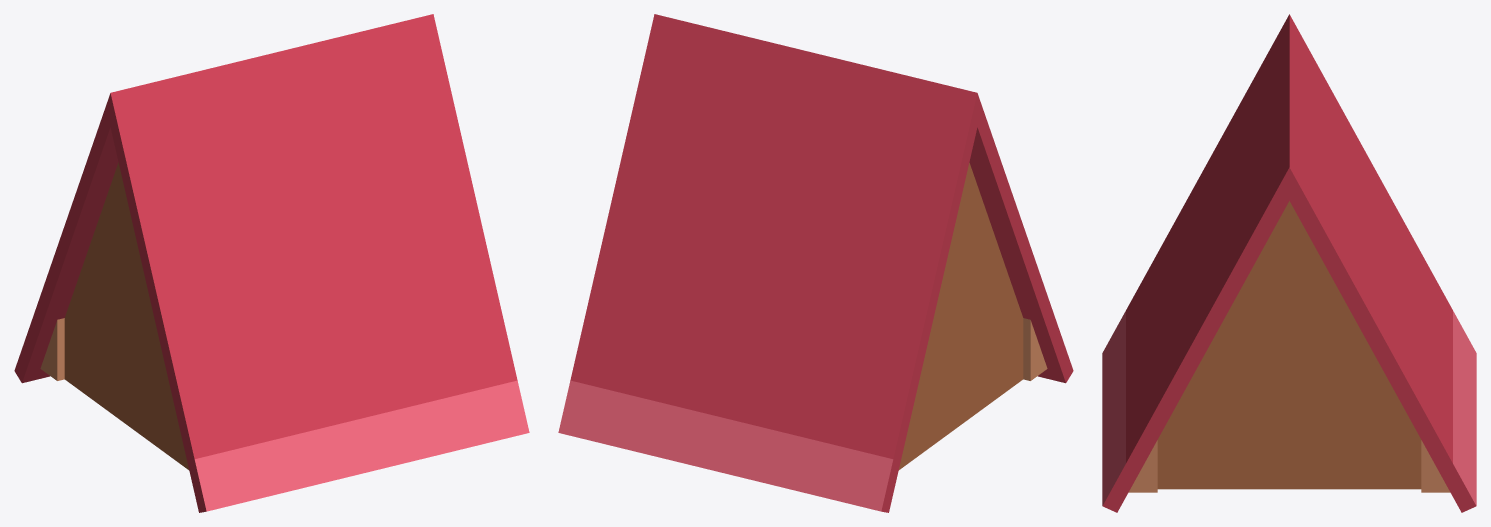
File: roofHighGable.obj
3 renders of one model, left to right at view 1: azimuth 30°, elevation 25°; view 2: azimuth 150°, elevation 25°; view 3: azimuth 270°, elevation 25°, orthographic. The views are drawn at different scales.
Visible parts, largest first — view 1: roofHighGable; view 2: roofHighGable; view 3: roofHighGable.
Boxes of the visible parts, x1,y1,x2,y2 form: roofHighGable: (14, 14, 529, 512); roofHighGable: (558, 14, 1073, 512); roofHighGable: (1102, 14, 1476, 512).
Bounding box in the file's own units: 1.1 × 1.16 × 1.13.
